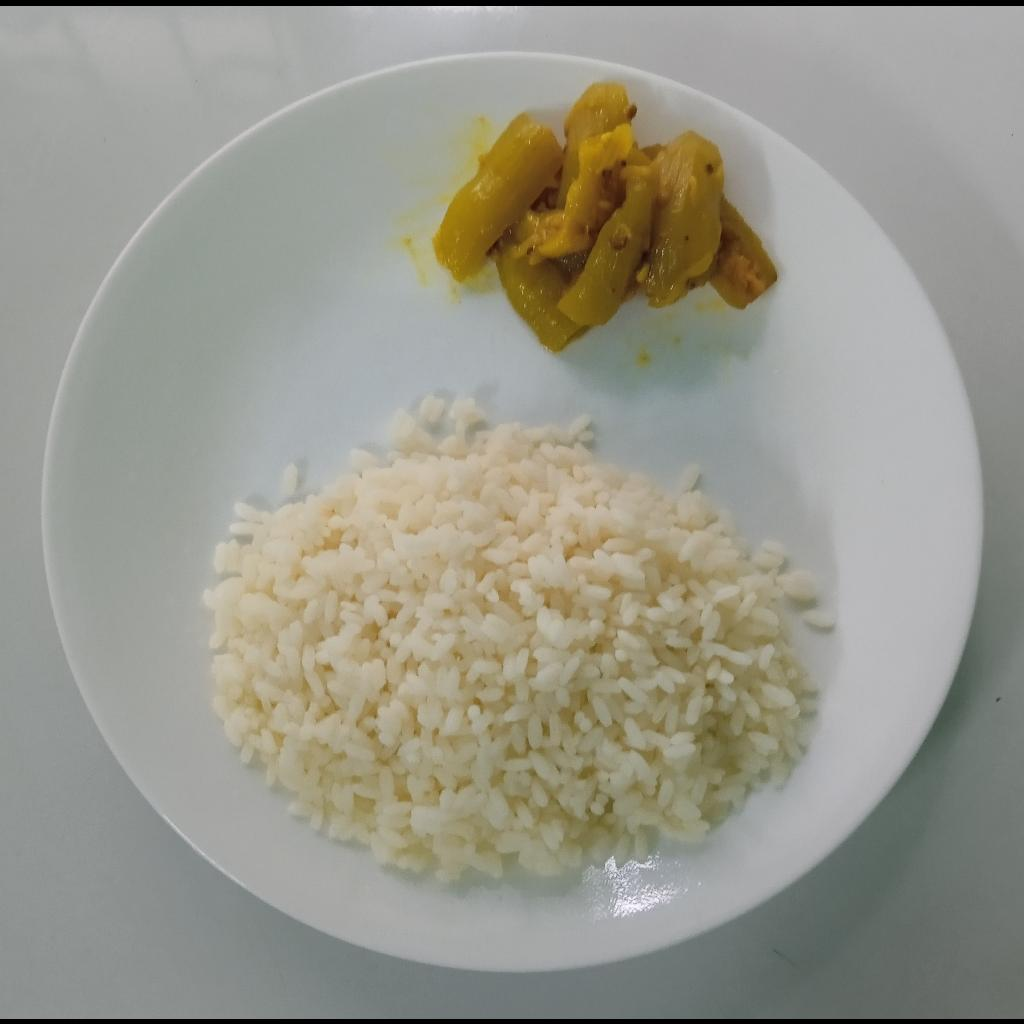potol: (430, 78, 780, 348)
rice: (203, 393, 835, 882), (278, 461, 296, 496)
